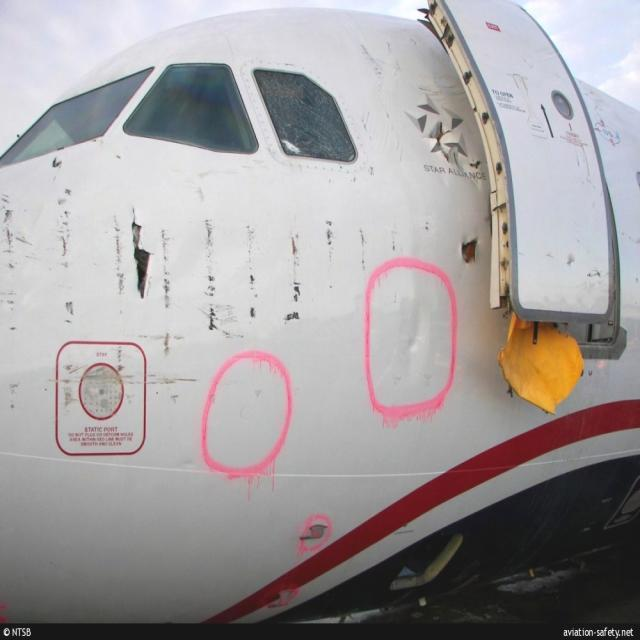crack: (128, 199, 155, 306), (456, 228, 482, 268)
dent: (393, 304, 431, 361)
